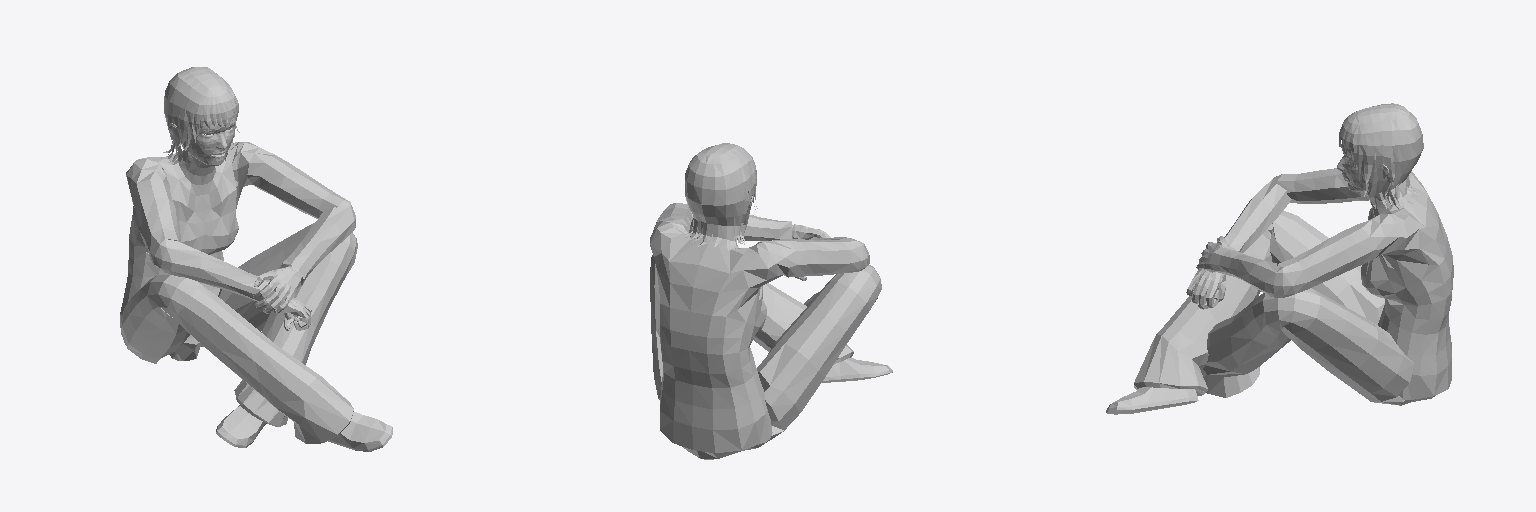
File: femaleSitOnLand.obj
3 views of the same model, side by side, from view 1: azimuth 30°, elevation 25°; view 2: azimuth 150°, elevation 25°; view 3: azimuth 270°, elevation 25° (orthographic).
Visible parts, largest first — view 1: obj1221polySurface1161; view 2: obj1221polySurface1161; view 3: obj1221polySurface1161.
Part boxes in pixels (x1,y1,x2,y2): obj1221polySurface1161: (120, 67, 392, 451); obj1221polySurface1161: (650, 143, 892, 459); obj1221polySurface1161: (1106, 103, 1453, 414).
Bounding box in the file's own units: 56.2 × 75.77 × 81.68.